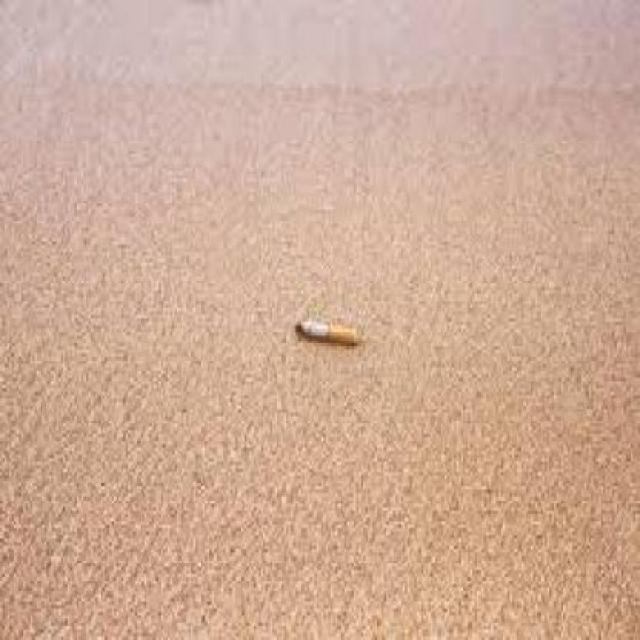cigarette: (288, 309, 361, 353)
